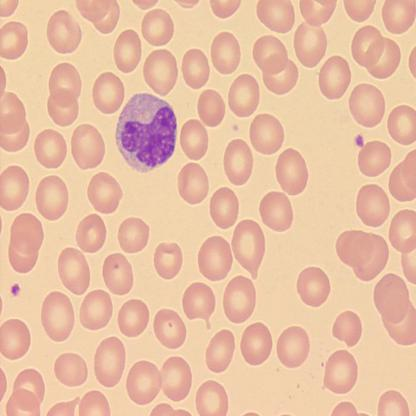Monocyte: (113, 88, 179, 175)
